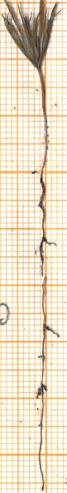flower: (0, 0, 65, 68)
root: (28, 172, 63, 492)
stem: (34, 67, 58, 173)
